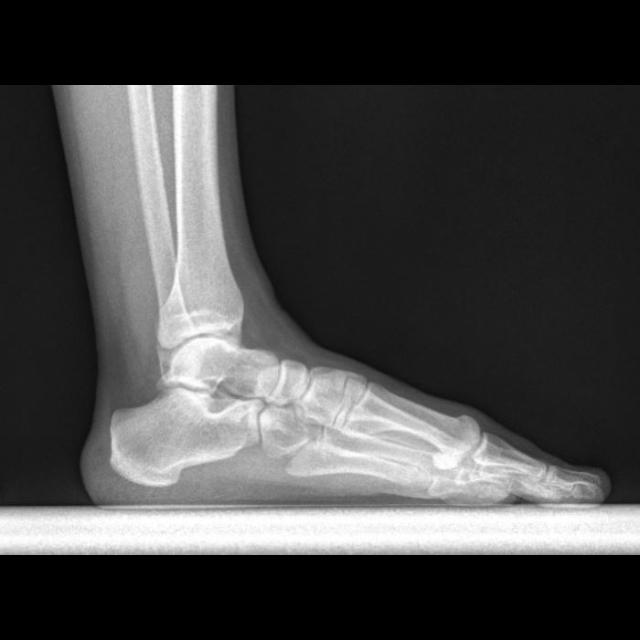a: (110, 388, 264, 488)
b: (265, 360, 309, 406)
c: (342, 382, 482, 473)
